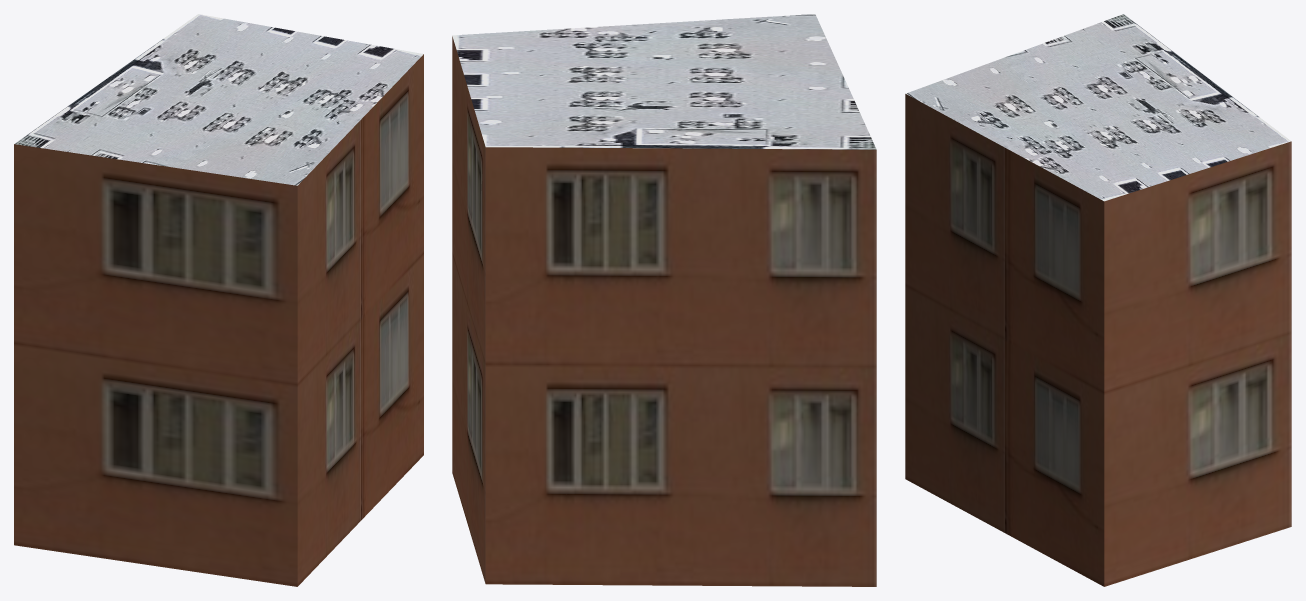
Rendered from ResTex__4762.fbx.
3 views of the same model, side by side, from view 1: azimuth 30°, elevation 25°; view 2: azimuth 150°, elevation 25°; view 3: azimuth 270°, elevation 25° (orthographic). The views are drawn at different scales.
Parts seen in each view (by area): view 1: CityEngineMaterial_20_m, CityEngineMaterial_4_m; view 2: CityEngineMaterial_20_m, CityEngineMaterial_4_m; view 3: CityEngineMaterial_20_m, CityEngineMaterial_4_m.
Part boxes in pixels (box(x1,y1,x2,y2)): CityEngineMaterial_20_m: box(14, 54, 423, 586); CityEngineMaterial_4_m: box(14, 14, 423, 185); CityEngineMaterial_20_m: box(452, 36, 876, 586); CityEngineMaterial_4_m: box(452, 14, 876, 149); CityEngineMaterial_20_m: box(905, 94, 1291, 586); CityEngineMaterial_4_m: box(906, 14, 1291, 201).
Bounding box in the file's own units: 6.26 × 6 × 5.44.
Materials: 2 (2 with a texture image).
